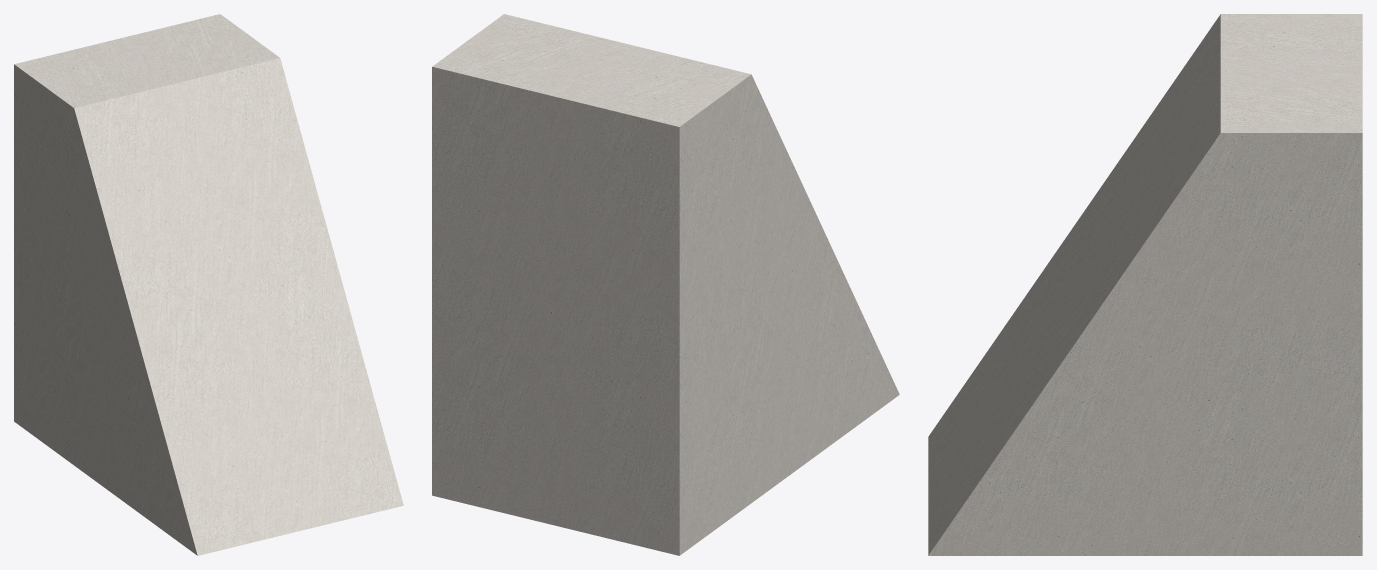
File: pawn-white-hd.glb
3 views of the same model, side by side, from view 1: azimuth 30°, elevation 25°; view 2: azimuth 150°, elevation 25°; view 3: azimuth 270°, elevation 25° (orthographic). The views are drawn at different scales.
Parts seen in each view (by area): view 1: pesec_bila; view 2: pesec_bila; view 3: pesec_bila.
Boxes of the visible parts, left/top/right/bottom form: pesec_bila: left=14, top=14, right=403, bottom=555; pesec_bila: left=432, top=14, right=899, bottom=555; pesec_bila: left=928, top=14, right=1362, bottom=555.
Bounding box in the file's own units: 0.4528 × 0.75 × 0.6985.
1 material, 1 textured.
